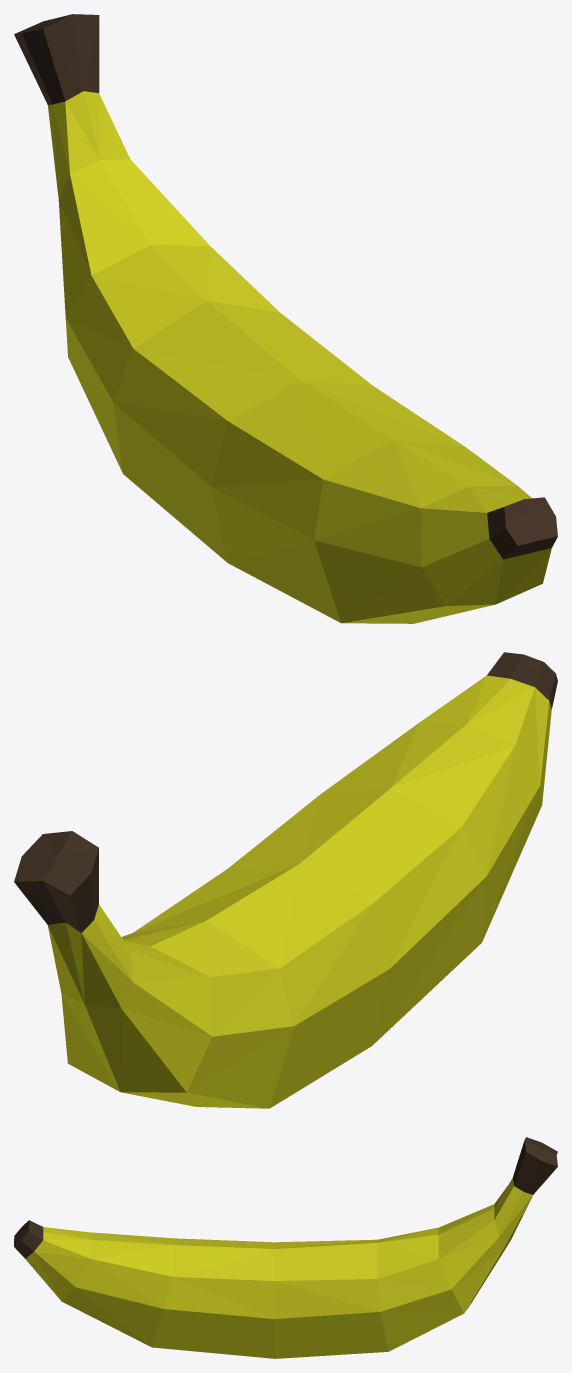
File: banana (2).dae
The picture shows the model from 3 angles, top to bottom: view 1: azimuth 30°, elevation 25°; view 2: azimuth 150°, elevation 25°; view 3: azimuth 270°, elevation 25°; orthographic projection. The views are drawn at different scales.
Parts seen in each view (by area): view 1: Cube; view 2: Cube; view 3: Cube.
Part boxes in pixels (x1,y1,x2,y2): Cube: (14, 14, 557, 623); Cube: (14, 652, 557, 1108); Cube: (14, 1137, 557, 1358).
Bounding box in the file's own units: 2.02 × 9.58 × 4.02.
